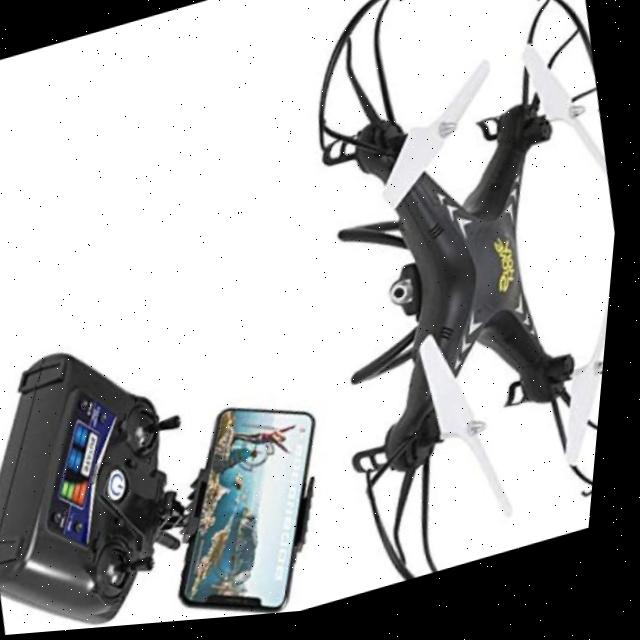drones: (225, 0, 640, 613)
